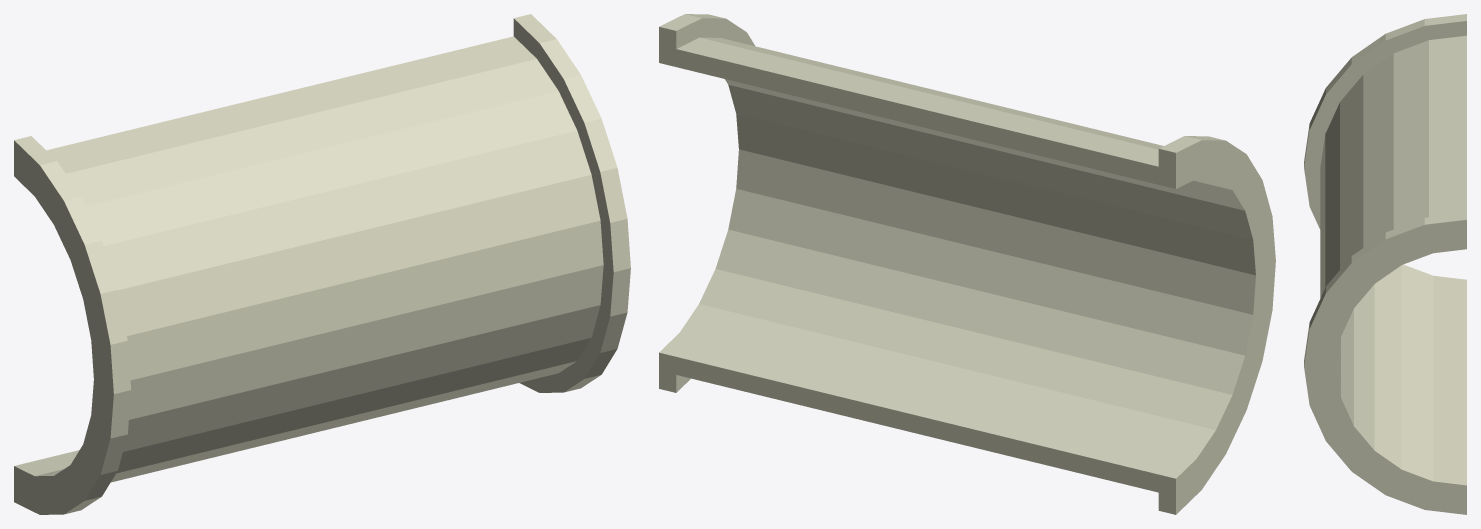
File: section_237.obj
The picture shows the model from 3 angles, left to right: view 1: azimuth 30°, elevation 25°; view 2: azimuth 150°, elevation 25°; view 3: azimuth 270°, elevation 25°; orthographic projection. The views are drawn at different scales.
Size of the model in its own units: 29.89 by 20 by 10.
